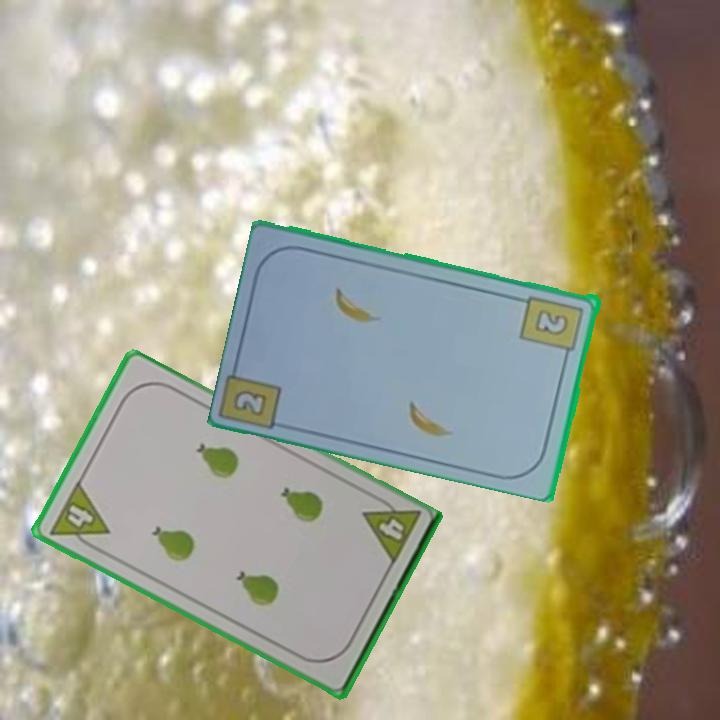2b: (517, 291, 587, 363), (229, 386, 271, 419)
4p: (45, 477, 112, 556), (359, 491, 424, 569)
